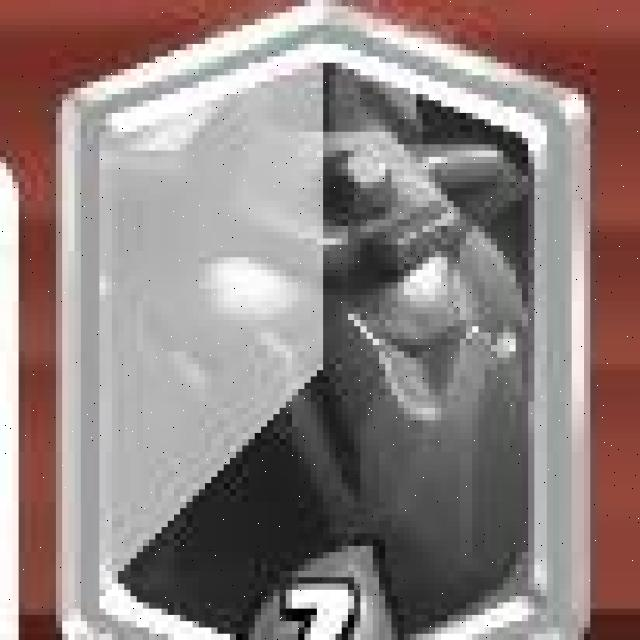Lava_Hound: (58, 4, 590, 640)
